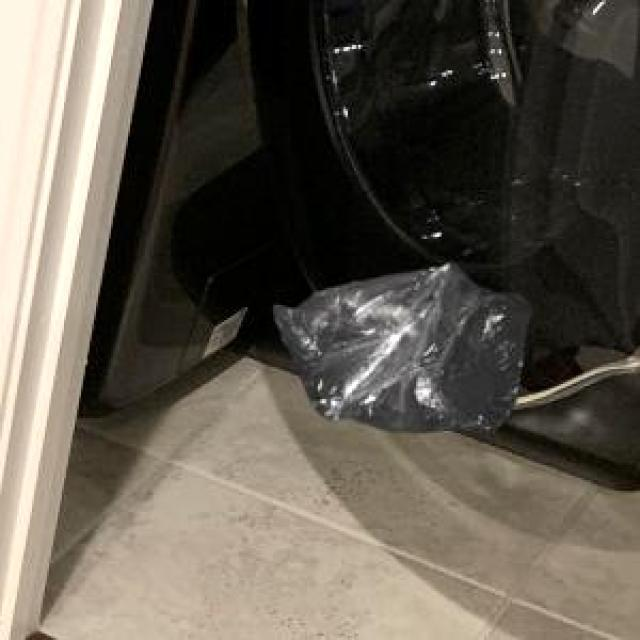Plastic_Bag: (270, 261, 528, 432)
